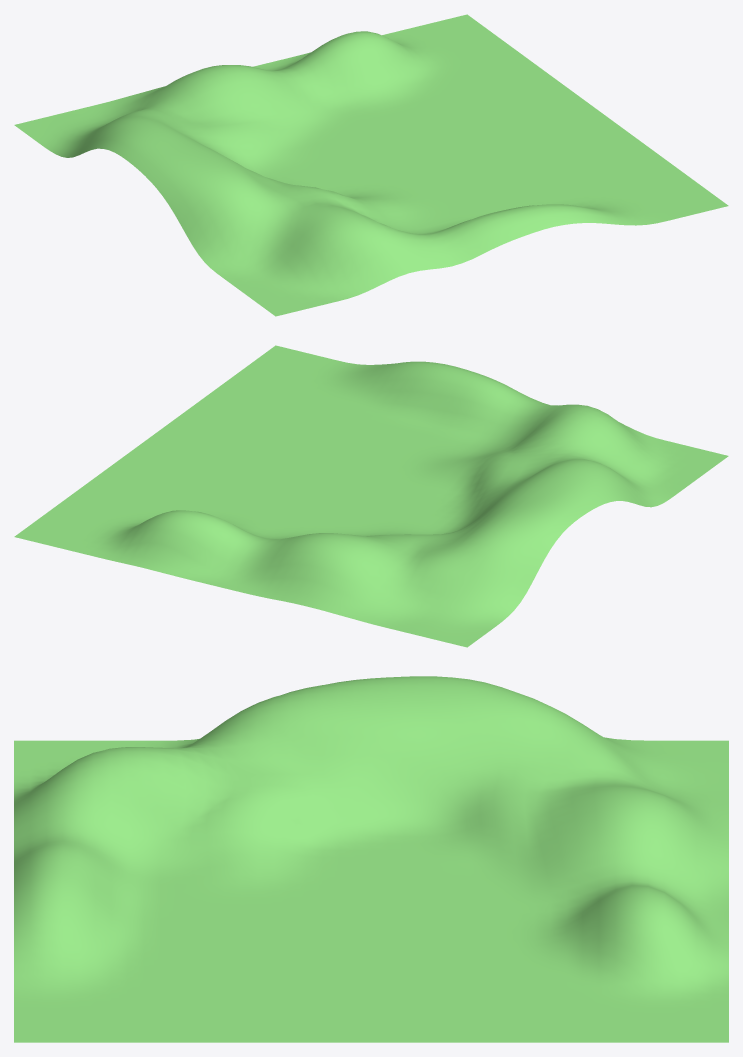
Rendered from terrain.fbx.
The picture shows the model from 3 angles, top to bottom: view 1: azimuth 30°, elevation 25°; view 2: azimuth 150°, elevation 25°; view 3: azimuth 270°, elevation 25°; orthographic projection. The views are drawn at different scales.
Visible parts, largest first — view 1: Plane; view 2: Plane; view 3: Plane.
Part boxes in pixels (x1,y1,x2,y2): Plane: (14,14,728,316); Plane: (14,345,728,647); Plane: (14,676,728,1042).
Bounding box in the file's own units: 57258 × 6652 × 57262.
